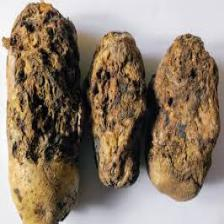Defected potato: (7, 5, 83, 222), (150, 26, 219, 208), (85, 22, 144, 194)
